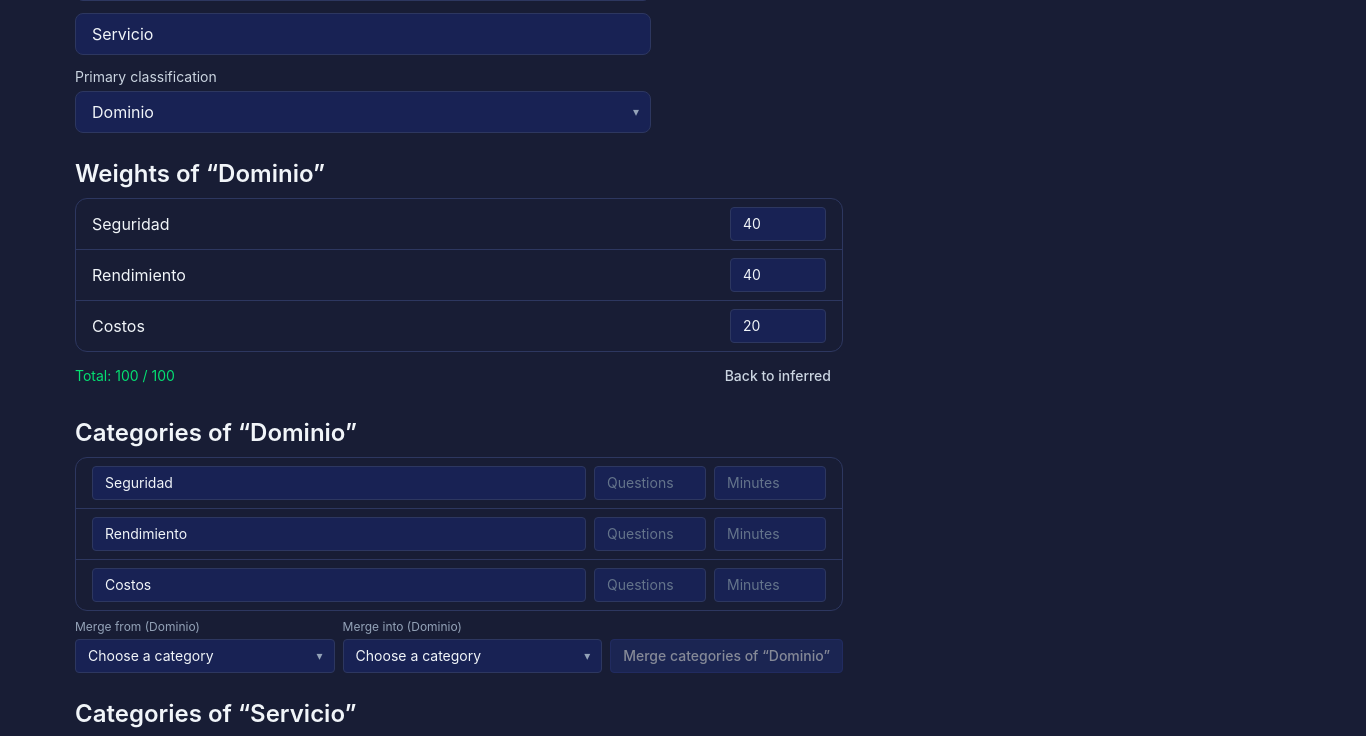
it: ExamEditPage: weights (S08-4) › "Back to inferred" sends weightMode "inferred" and shows the weights from the bank (S08-4)
(page scrolled)
Click the button "Back to inferred": coordinates (778, 376) [713,360,843,392]
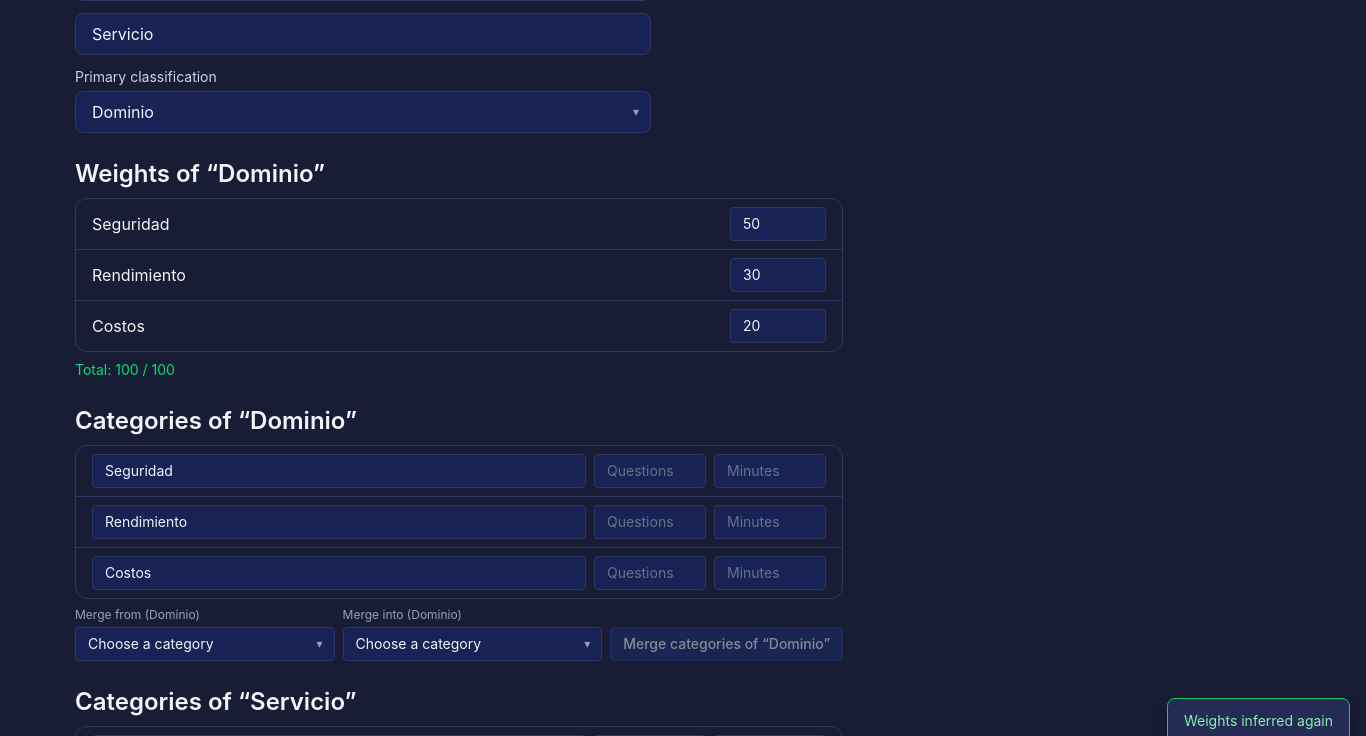
Expected: the button "Back to inferred" is gone
